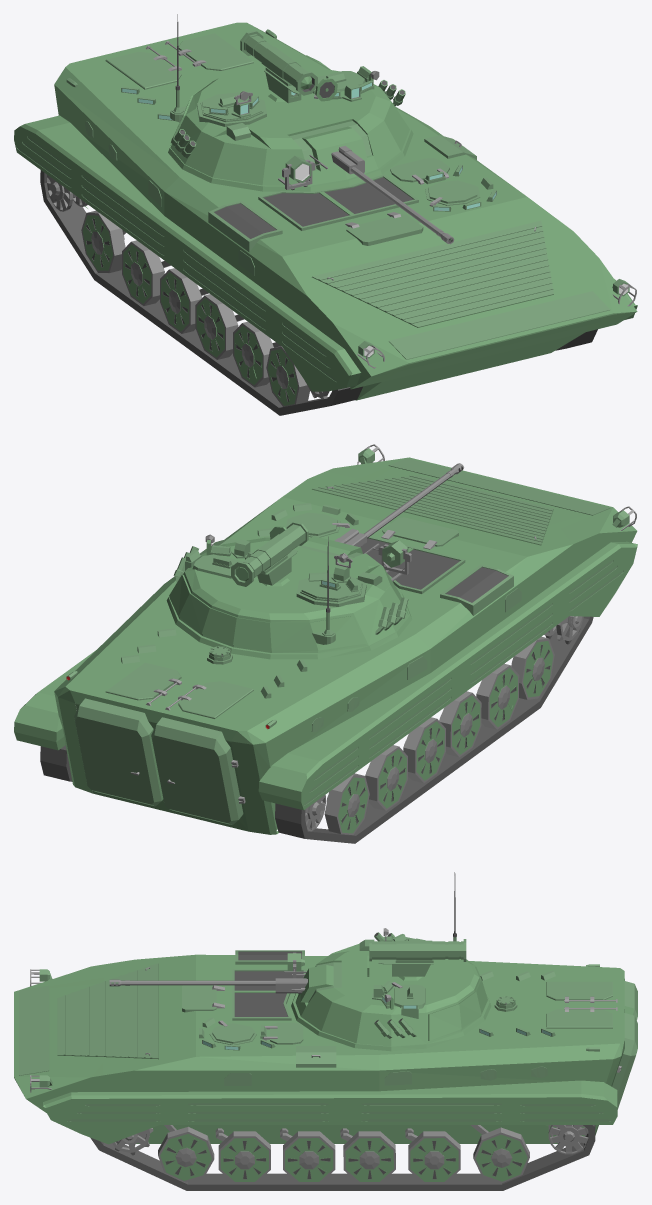
3 views of the same model, one above another, from view 1: azimuth 30°, elevation 25°; view 2: azimuth 150°, elevation 25°; view 3: azimuth 270°, elevation 25° (orthographic). The views are drawn at different scales.
Parts seen in each view (by area): view 1: Cube.001_5; view 2: Cube.001_5; view 3: Cube.001_5.
Part boxes in pixels (box(x1,y1,x2,y2)): Cube.001_5: box(14, 14, 637, 415); Cube.001_5: box(14, 444, 637, 843); Cube.001_5: box(14, 872, 637, 1190).
Bounding box in the file's own units: 1.3 × 1.18 × 2.87.
